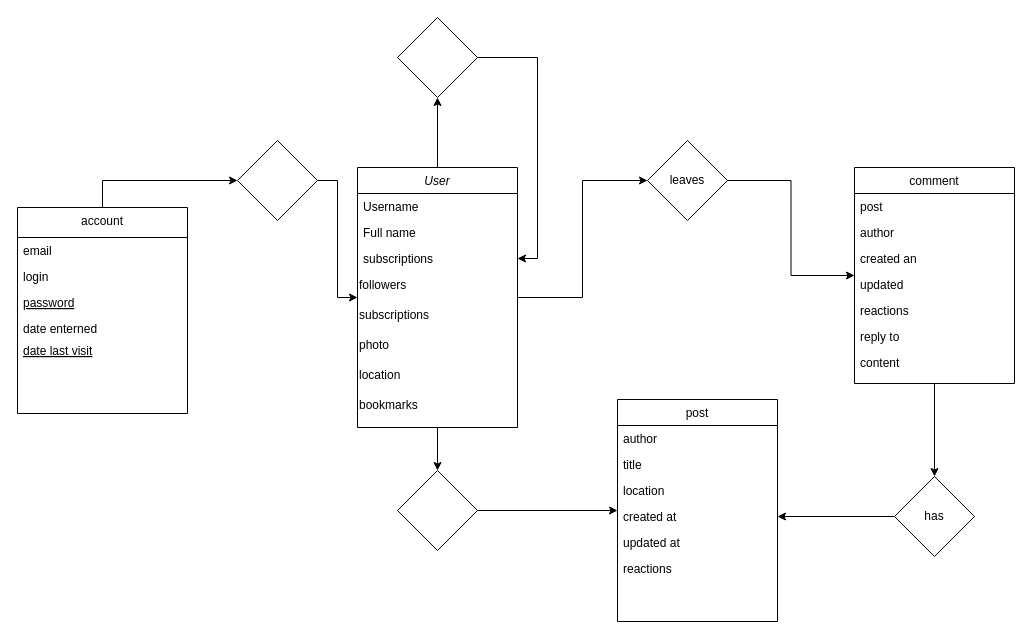
This 1032x639 diagram has some shape labels left out. Here are the shapes that lost their labels. From the top down, the centre of each, then its label:
pixel 437 57: subscribes
pixel 277 180: holds
pixel 437 510: crud
